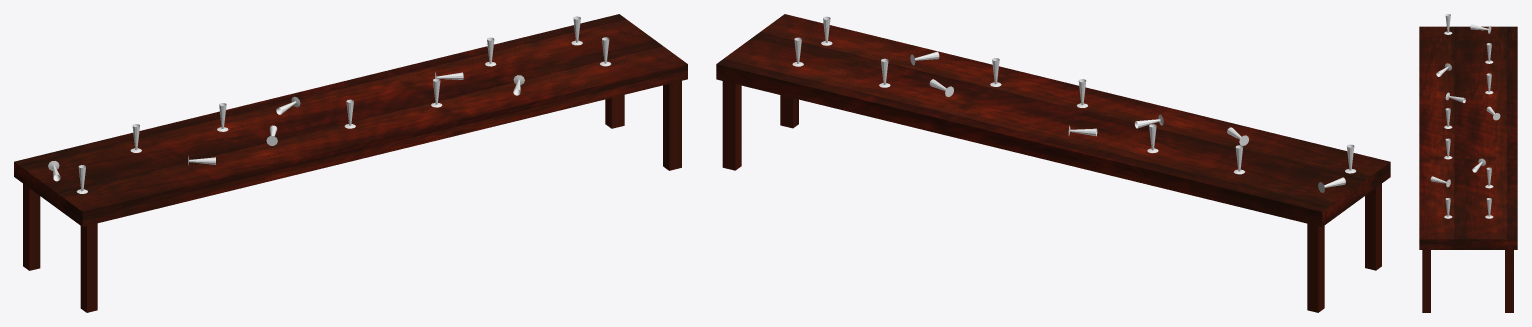
Rendered from table.fbx.
3 views of the same model, side by side, from view 1: azimuth 30°, elevation 25°; view 2: azimuth 150°, elevation 25°; view 3: azimuth 270°, elevation 25° (orthographic). The views are drawn at different scales.
Visible parts, largest first — view 1: pCube1; view 2: pCube1; view 3: pCube1, pCylinder2, pCylinder3, pCylinder7, pCylinder10, pCylinder13, pCylinder1, pCylinder6, pCylinder14, pCylinder15, pCylinder18, pCylinder16 (+3 smaller).
Boxes of the visible parts, x1,y1,x2,y2 form: pCube1: (14,14,687,312); pCube1: (716,14,1390,312); pCube1: (1419,26,1517,312); pCylinder2: (1444,198,1452,218); pCylinder3: (1430,176,1450,187); pCylinder7: (1444,108,1452,128); pCylinder10: (1444,138,1452,159); pCylinder13: (1470,24,1491,33); pCylinder1: (1485,198,1493,218); pCylinder6: (1485,167,1493,188); pCylinder14: (1444,14,1452,34); pCylinder15: (1436,63,1451,76); pCylinder18: (1485,73,1493,94); pCylinder16: (1485,43,1493,63).
Size of the model in its own units: 6.46 by 1.33 by 1.27.
